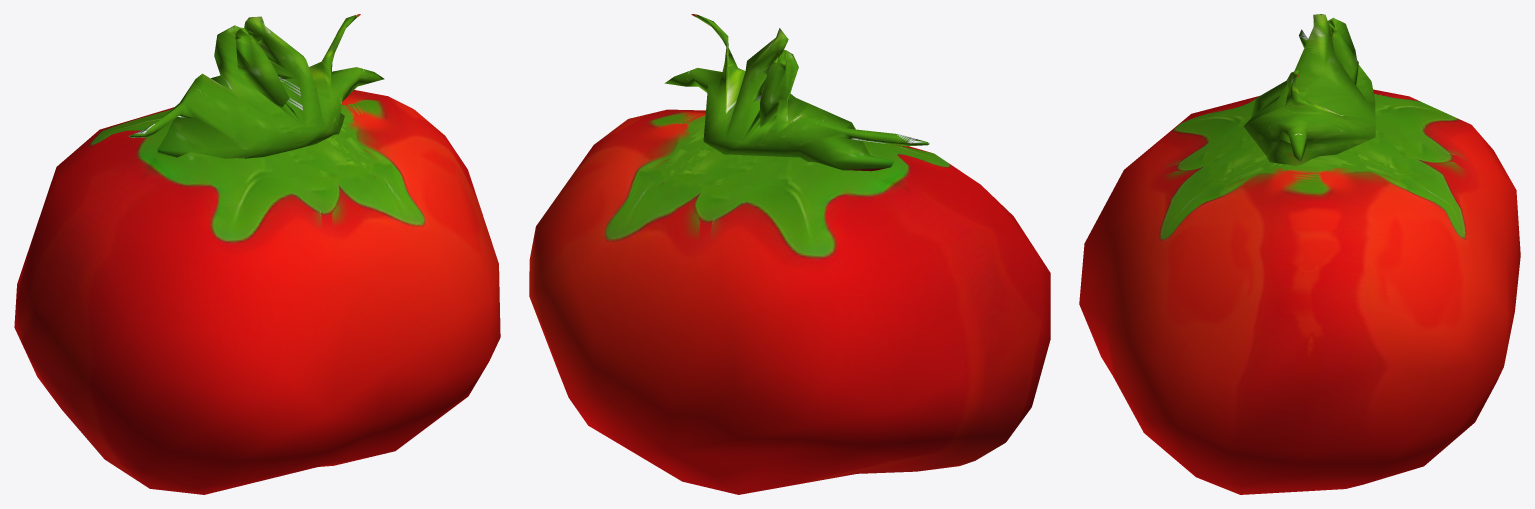
The model's file is Tomato.fbx.
3 renders of one model, left to right at view 1: azimuth 30°, elevation 25°; view 2: azimuth 150°, elevation 25°; view 3: azimuth 270°, elevation 25°, orthographic. The views are drawn at different scales.
Visible parts, largest first — view 1: mm_frame.001; view 2: mm_frame.001; view 3: mm_frame.001.
Boxes of the visible parts, box(x1,y1,x2,y2) form: mm_frame.001: box(14, 14, 500, 494); mm_frame.001: box(529, 14, 1050, 494); mm_frame.001: box(1079, 14, 1520, 494).
Bounding box in the file's own units: 567 × 554 × 499.
